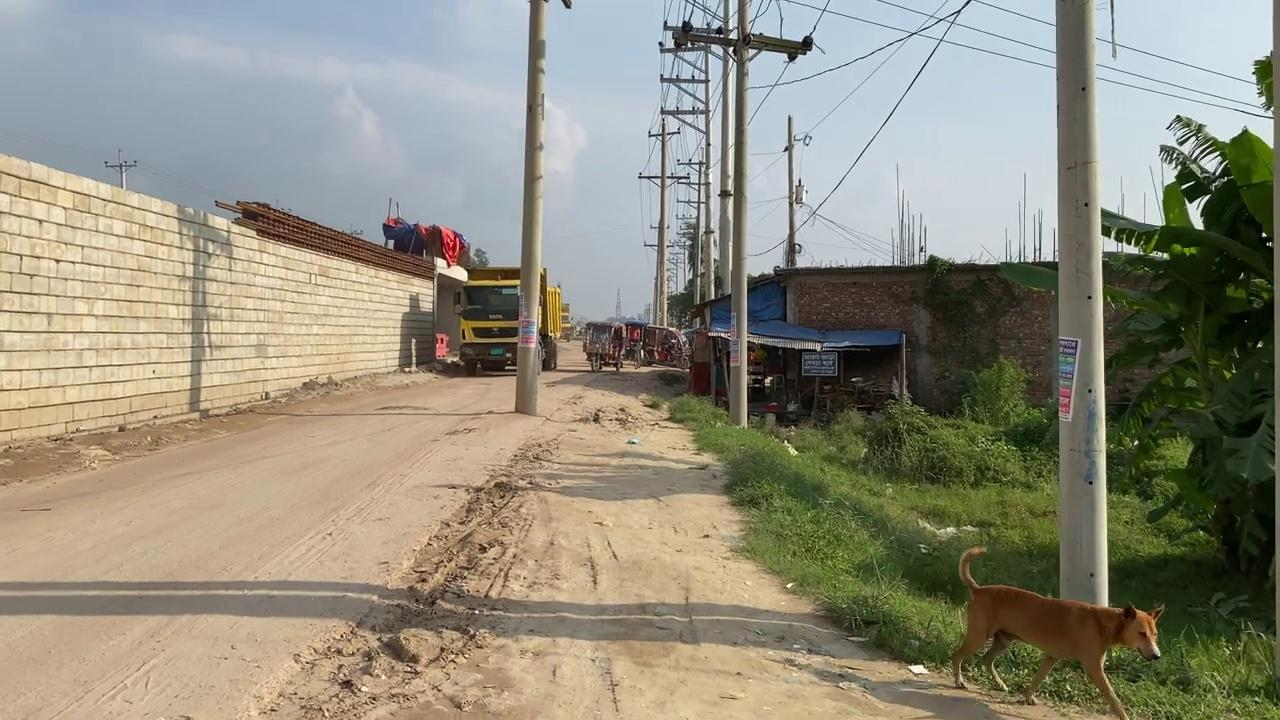Dog: (949, 546, 1165, 719)
Pole: (1053, 0, 1108, 608), (513, 0, 547, 415), (728, 1, 749, 428)
Rickshaw: (519, 420, 779, 720)
Traffic-sign: (1097, 50, 1275, 621)
Tree: (456, 265, 562, 376)
Upstairs: (0, 151, 440, 445)
